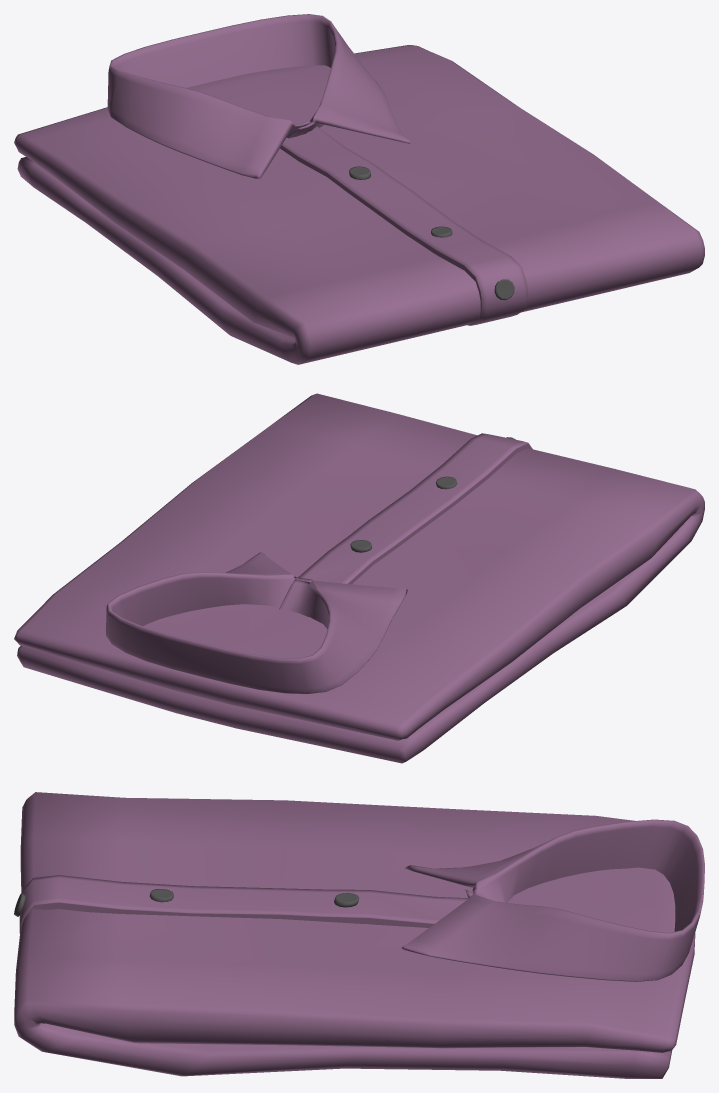
File: Folded_Shirt15.fbx
The picture shows the model from 3 angles, top to bottom: view 1: azimuth 30°, elevation 25°; view 2: azimuth 150°, elevation 25°; view 3: azimuth 270°, elevation 25°; orthographic projection. The views are drawn at different scales.
Visible parts, largest first — view 1: Folded_Shirt15; view 2: Folded_Shirt15; view 3: Folded_Shirt15.
Boxes of the visible parts, <box> form: Folded_Shirt15: <box>14,14,704,364</box>; Folded_Shirt15: <box>14,393,704,763</box>; Folded_Shirt15: <box>14,792,704,1078</box>.
Bounding box in the file's own units: 24.95 × 5.51 × 33.25.
